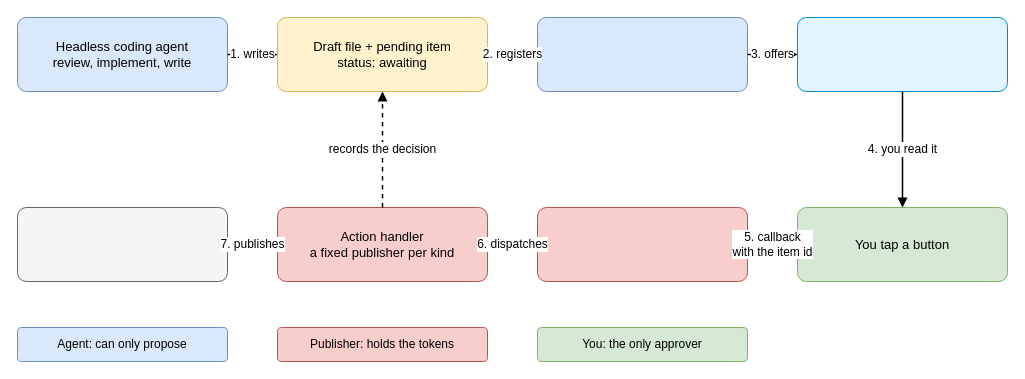
This 1025x379 diagram has some shape labels left out. The shapes that lost their labels are listed below. From the top down, each one's centre as x and y in pixels, then its label:
At [642,54]: "Offer script sends draft + 3 buttons".
At [902,54]: "Telegram message the exact text that will go out [Approve] [Show] [Skip]".
At [122,244]: "GitHub, blog, ... the outside world".
At [642,244]: "Bridge the one process polling the bot".
